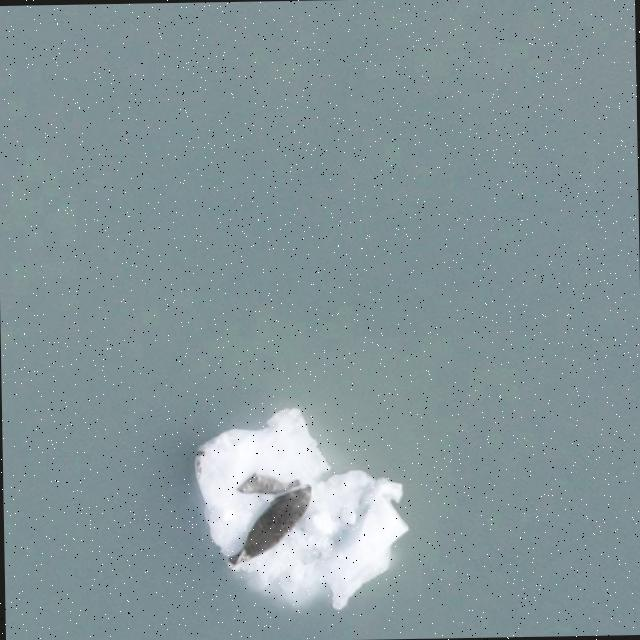seal: (222, 471, 321, 578), (236, 472, 301, 495)
